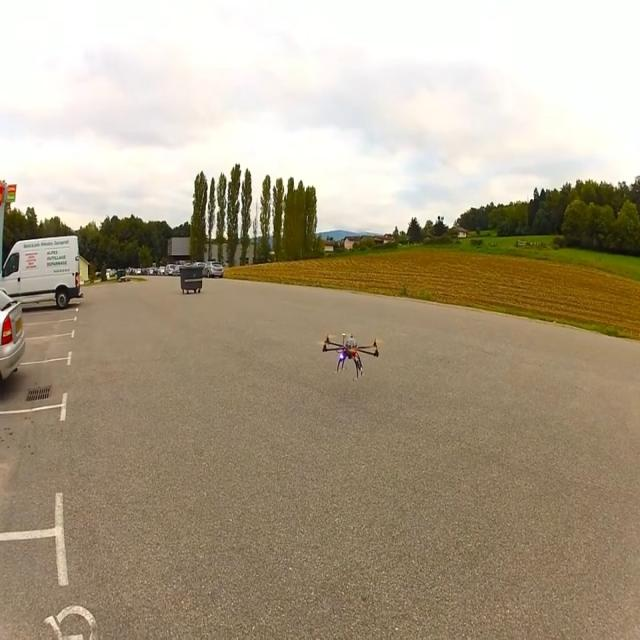drone: (322, 332, 379, 381)
